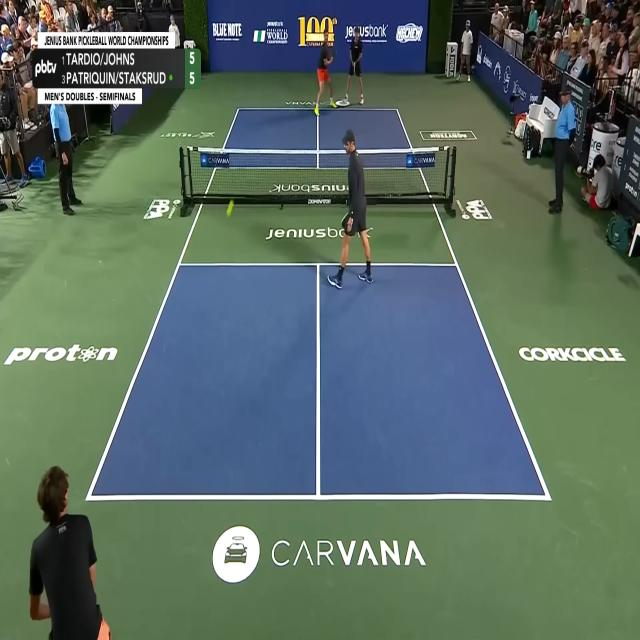ball: (226, 199, 235, 218)
